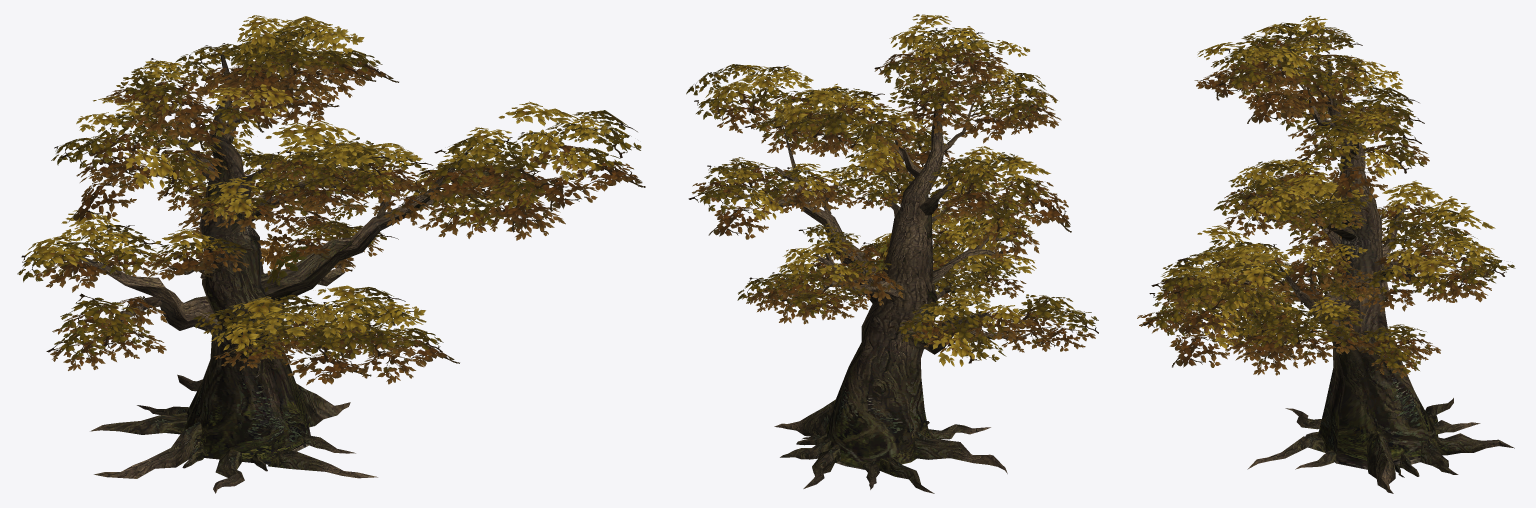
The model's file is 4005_Item_shu_4.FBX.
3 renders of one model, left to right at view 1: azimuth 30°, elevation 25°; view 2: azimuth 150°, elevation 25°; view 3: azimuth 270°, elevation 25°, orthographic. The views are drawn at different scales.
Parts seen in each view (by area): view 1: 4005_Item_shu_4; view 2: 4005_Item_shu_4; view 3: 4005_Item_shu_4.
Part boxes in pixels (x1=…): 4005_Item_shu_4: x1=17, y1=15, x2=645, y2=493; 4005_Item_shu_4: x1=686, y1=14, x2=1098, y2=493; 4005_Item_shu_4: x1=1137, y1=15, x2=1515, y2=493.
Size of the model in its own units: 907 by 747 by 660.
